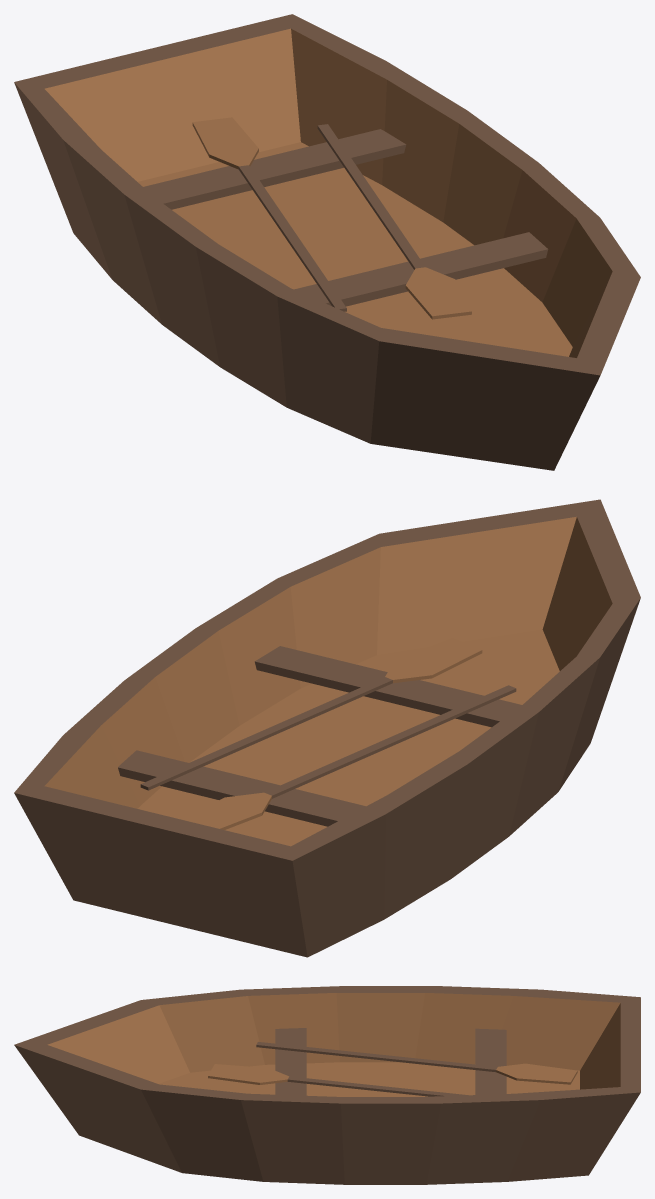
File: SPW_Medieval_Boat.glb
The picture shows the model from 3 angles, top to bottom: view 1: azimuth 30°, elevation 25°; view 2: azimuth 150°, elevation 25°; view 3: azimuth 270°, elevation 25°; orthographic projection. The views are drawn at different scales.
Visible parts, largest first — view 1: SPW_Medieval_Boat; view 2: SPW_Medieval_Boat; view 3: SPW_Medieval_Boat.
Boxes of the visible parts, left/top/right/bottom form: SPW_Medieval_Boat: left=14, top=14, right=640, bottom=470; SPW_Medieval_Boat: left=14, top=499, right=640, bottom=957; SPW_Medieval_Boat: left=14, top=986, right=640, bottom=1184.
Size of the model in its own units: 1.11 by 0.4 by 2.51.
Materials: 1 (1 with a texture image).
